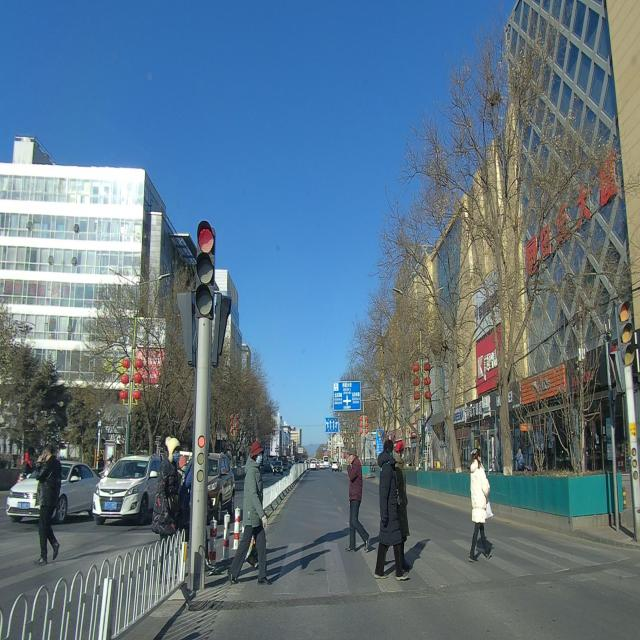Traffic Light -Off-: (614, 298, 636, 370)
Traffic Light -Red-: (194, 222, 217, 325)
